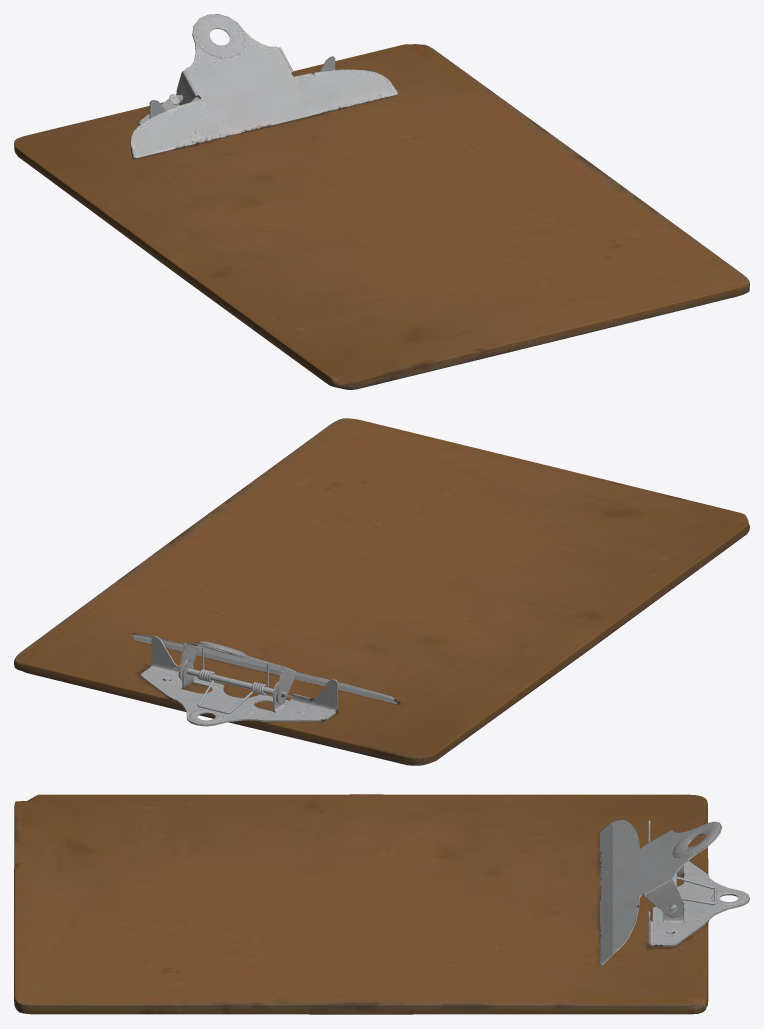
File: clipboard.glb
The picture shows the model from 3 angles, top to bottom: view 1: azimuth 30°, elevation 25°; view 2: azimuth 150°, elevation 25°; view 3: azimuth 270°, elevation 25°; orthographic projection. The views are drawn at different scales.
Visible parts, largest first — view 1: clipboard; view 2: clipboard; view 3: clipboard.
Boxes of the visible parts, box(x1,y1,x2,y2) form: clipboard: box(14, 14, 749, 389); clipboard: box(14, 418, 749, 765); clipboard: box(14, 794, 749, 1014).
Bounding box in the file's own units: 0.2286 × 0.042 × 0.3366.
1 material, 1 textured.
